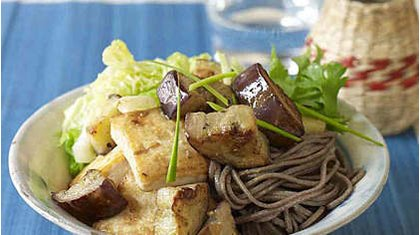Soba: (203, 135, 367, 233)
